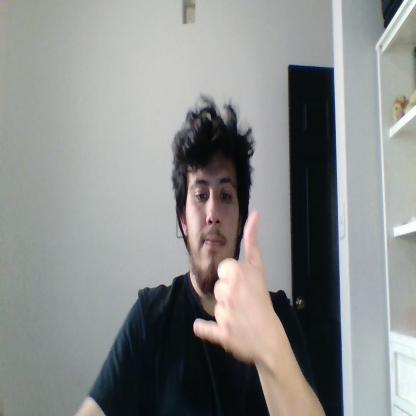Y: (194, 209, 272, 360)
